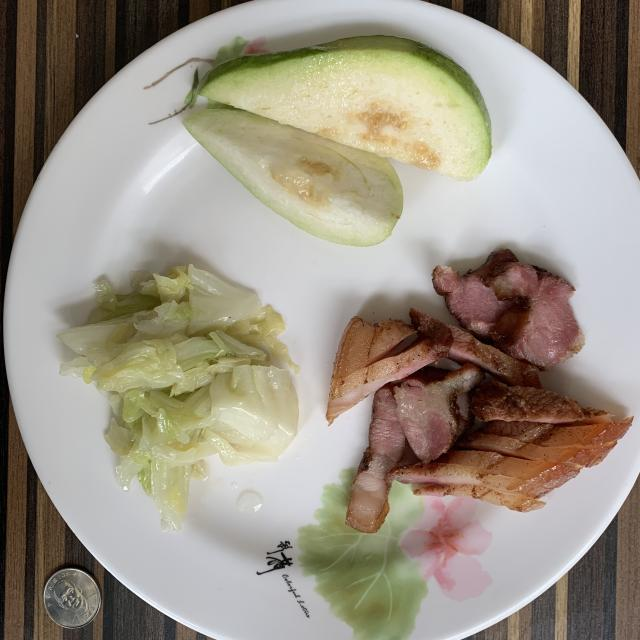cabbage: (58, 265, 299, 530)
coin: (44, 569, 101, 629)
grilled pork: (328, 250, 632, 532)
guava -sliced-: (184, 36, 491, 246)
